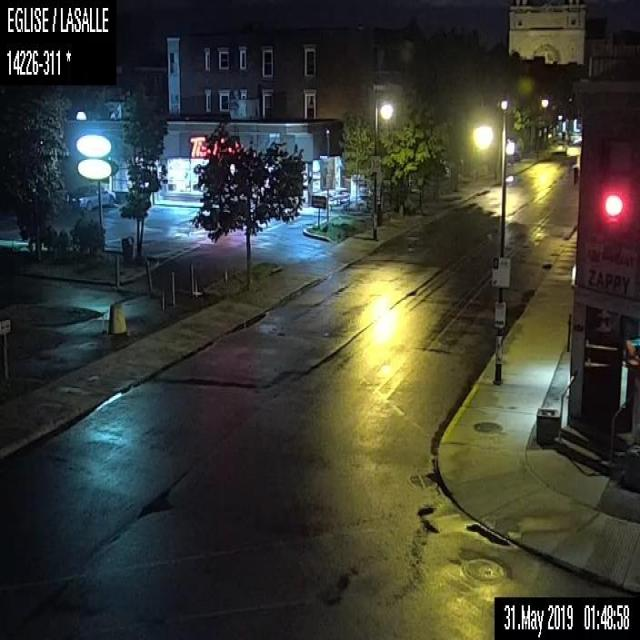vehicle: (65, 181, 117, 211)
